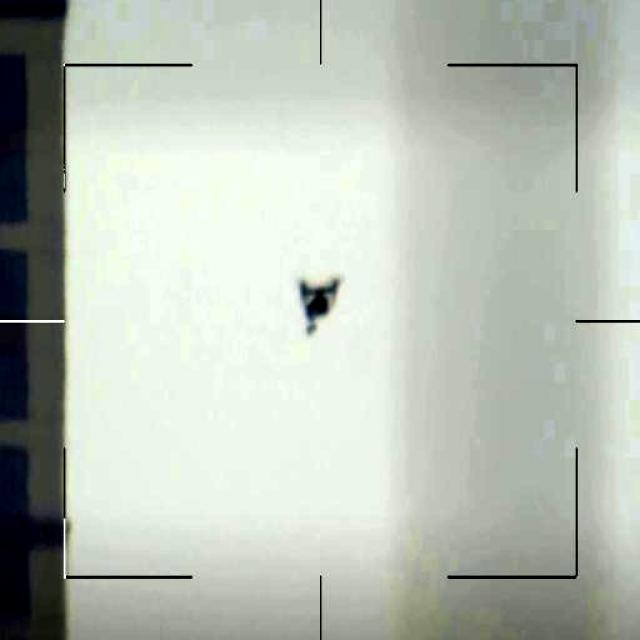bird: (292, 265, 346, 342)
